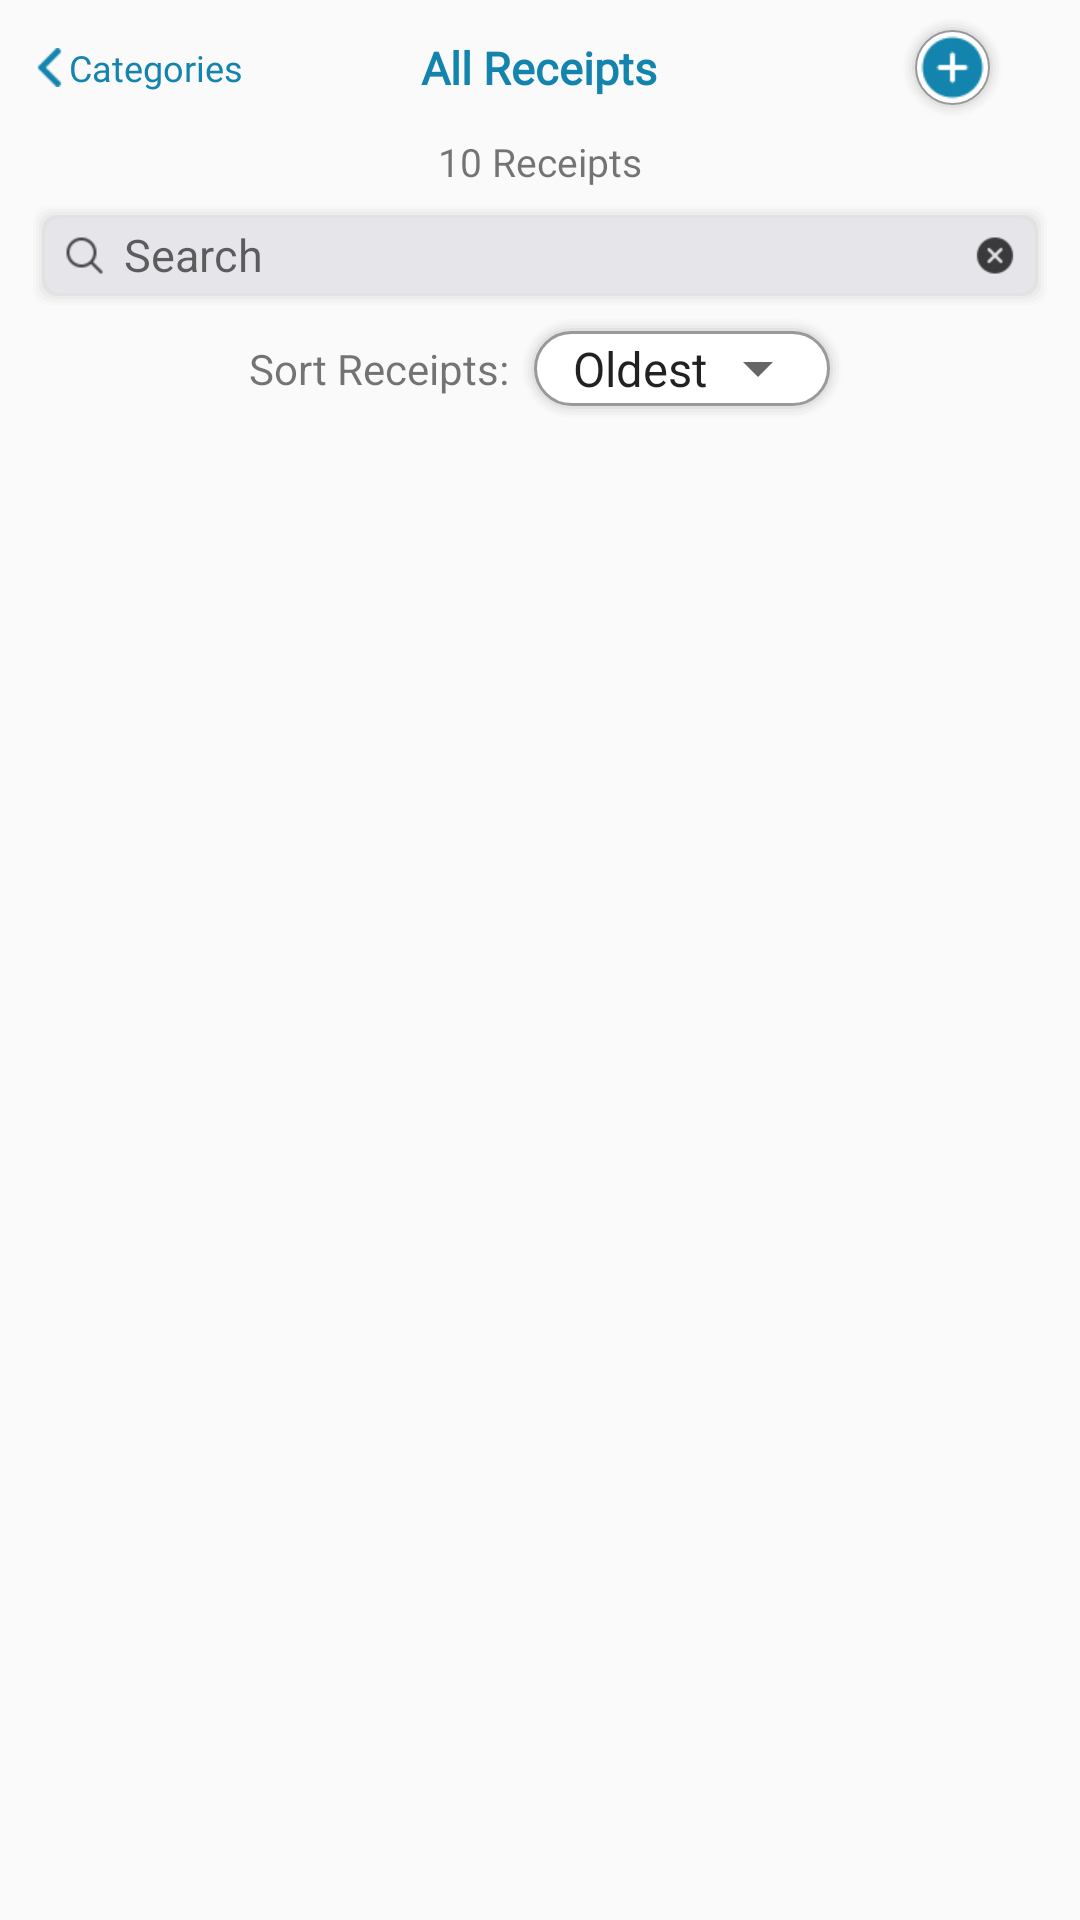

Where to tap for icons on this 1080×1920 app screen, as (x=x, y=y):
add: (x=952, y=67)
back: (x=49, y=67)
seach: (x=84, y=255)
